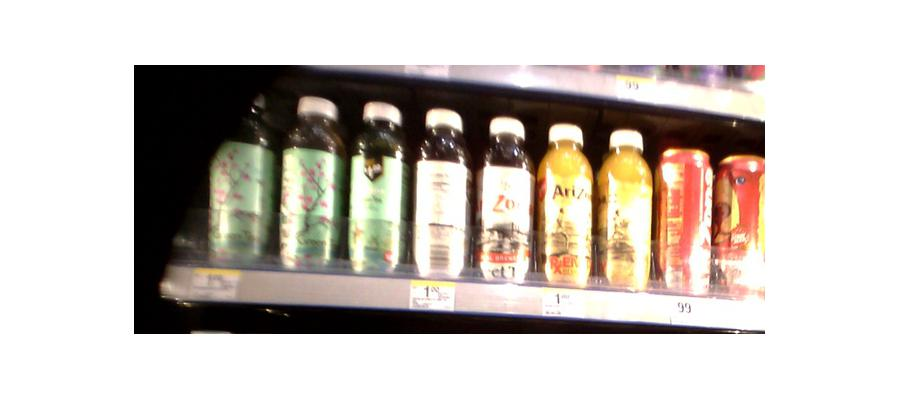bottle: (207, 86, 273, 261), (280, 93, 343, 268), (473, 117, 534, 288), (411, 106, 470, 282), (348, 101, 406, 274), (538, 123, 594, 289), (599, 130, 653, 292), (656, 146, 714, 295), (715, 153, 764, 303)
